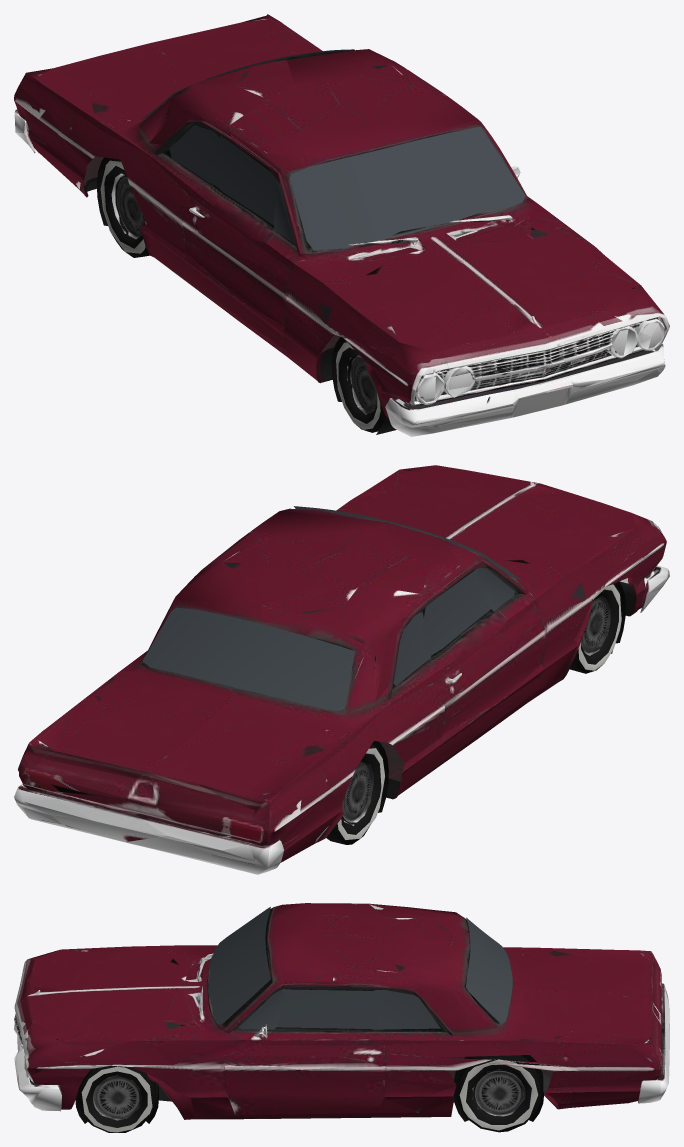
File: lowrider.glb
3 views of the same model, one above another, from view 1: azimuth 30°, elevation 25°; view 2: azimuth 150°, elevation 25°; view 3: azimuth 270°, elevation 25° (orthographic). The views are drawn at different scales.
Visible parts, largest first — view 1: body, glass, wheel_rr, wheel_fr; view 2: body, glass, wheel_rr, wheel_fr; view 3: body, glass, wheel_rl, wheel_fl.
Boxes of the visible parts, <box> form: body: <box>14,14,669,436</box>; glass: <box>141,49,525,250</box>; wheel_rr: <box>100,158,149,257</box>; wheel_fr: <box>336,340,386,432</box>; body: <box>14,465,669,874</box>; glass: <box>142,506,521,710</box>; wheel_rr: <box>326,744,384,844</box>; wheel_fr: <box>569,584,621,673</box>; body: <box>14,903,669,1123</box>; glass: <box>208,907,512,1029</box>; wheel_rl: <box>457,1055,540,1132</box>; wheel_fl: <box>78,1065,155,1132</box>.
Bounding box in the file's own units: 2 × 1.38 × 5.35.
Materials: 3 (2 with a texture image).
